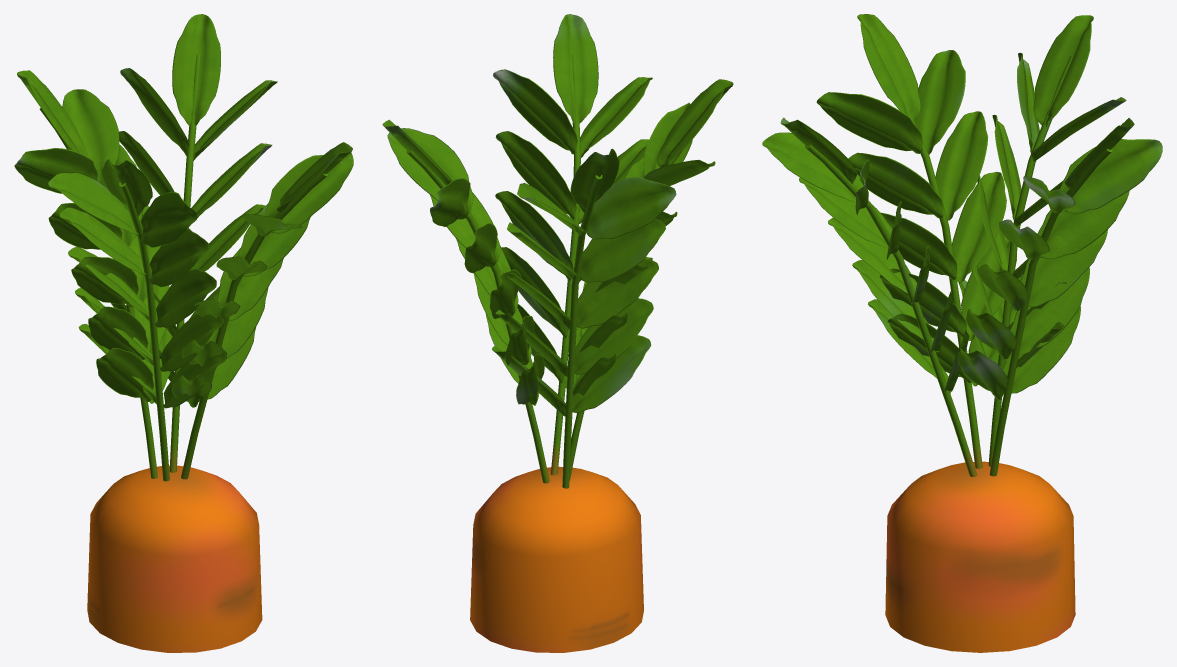
Rendered from carrot2.fbx.
3 renders of one model, left to right at view 1: azimuth 30°, elevation 25°; view 2: azimuth 150°, elevation 25°; view 3: azimuth 270°, elevation 25°, orthographic. The views are drawn at different scales.
Parts seen in each view (by area): view 1: carrot2; view 2: carrot2; view 3: carrot2.
Part boxes in pixels (box(x1,y1,x2,y2)): carrot2: box(14, 14, 353, 652); carrot2: box(382, 14, 733, 652); carrot2: box(762, 14, 1162, 652).
Size of the model in its own units: 0.2951 by 0.5359 by 0.3556.
Materials: 1 (1 with a texture image).
